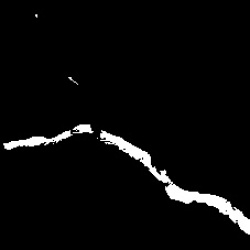crack: (5, 124, 245, 230)
pinhole: (67, 73, 81, 87), (34, 12, 43, 20)
